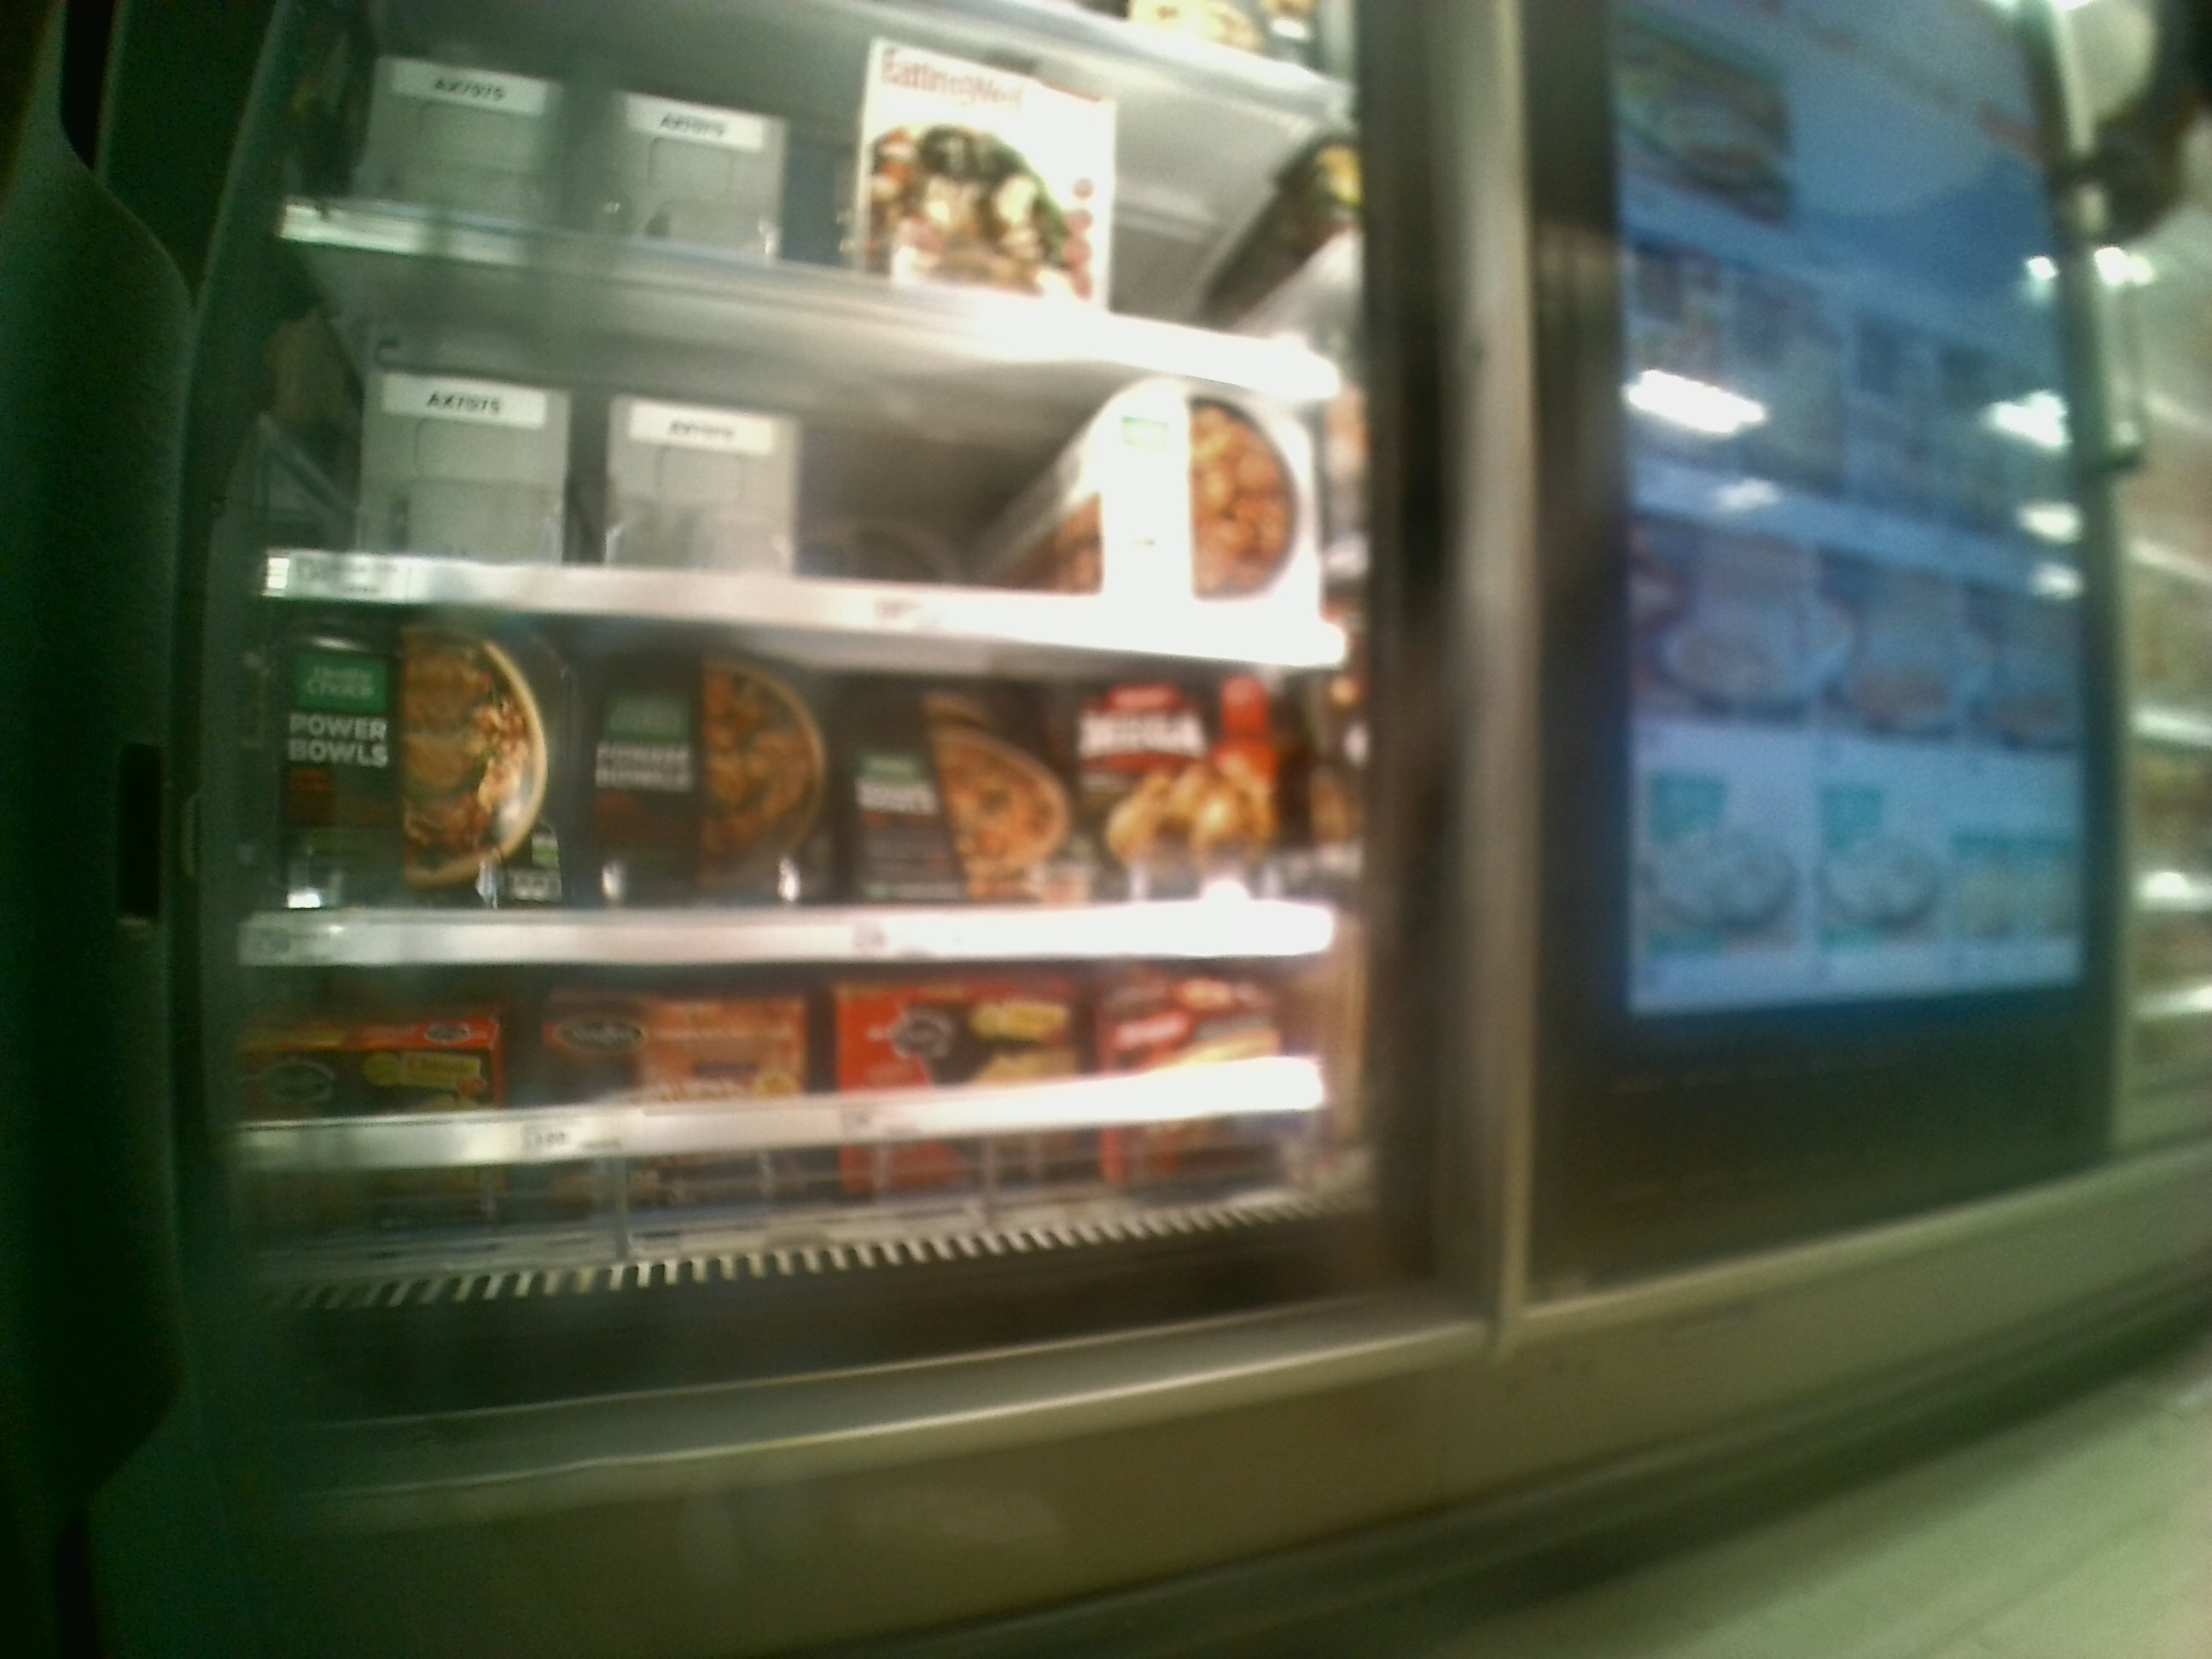Shelf: (249, 584, 1345, 965), (225, 955, 1378, 1291)
